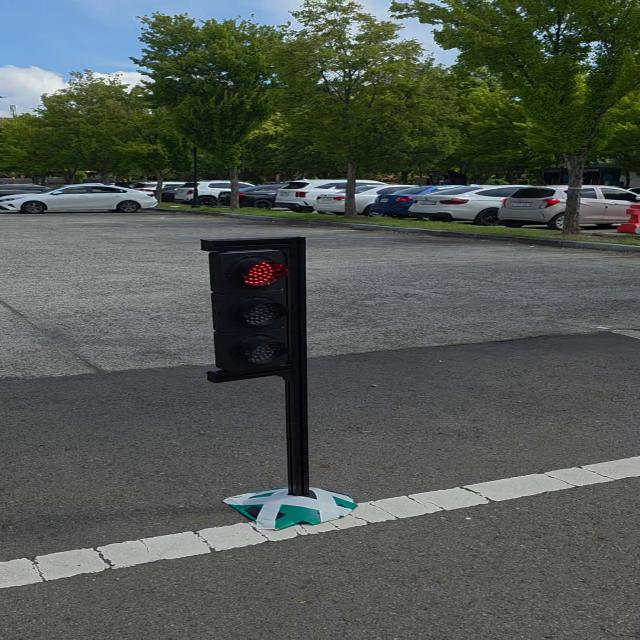red: (208, 237, 312, 384)
